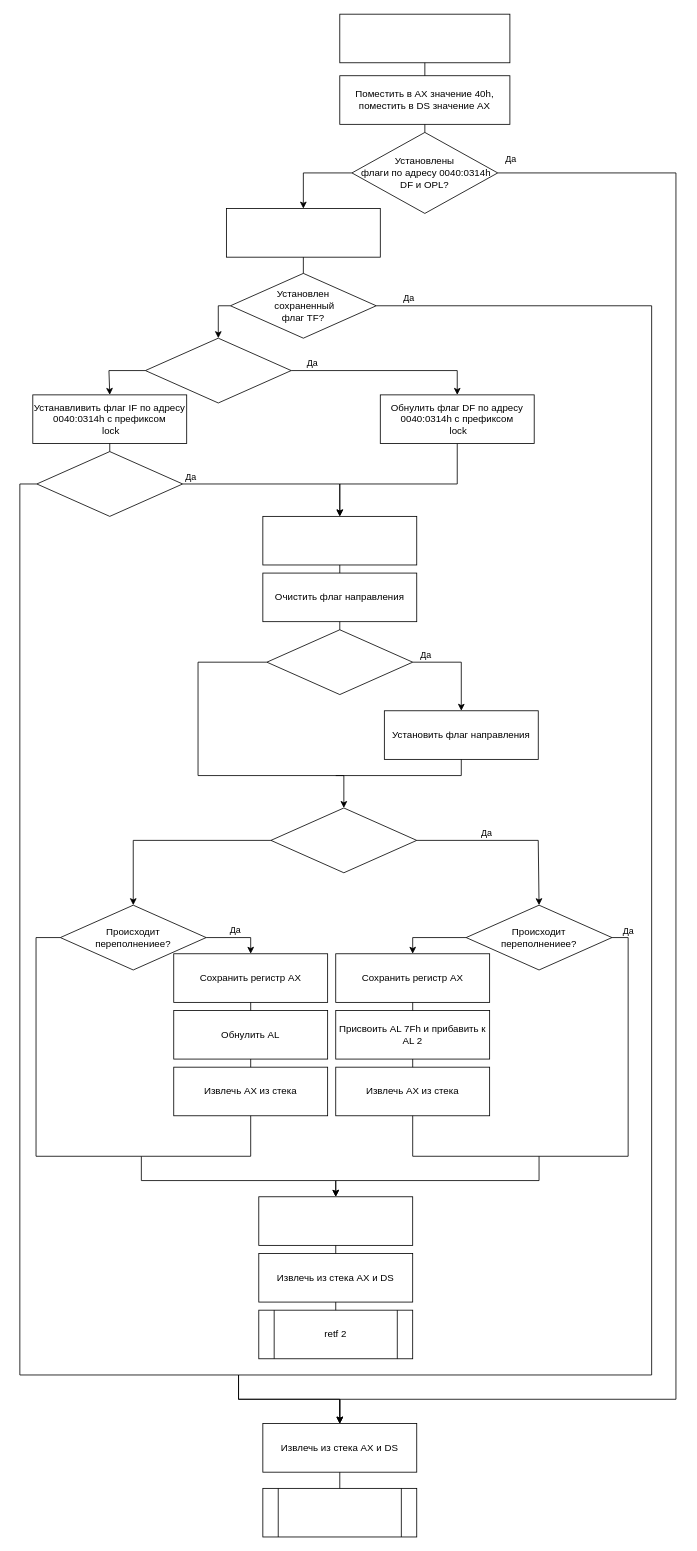
Image size: 697x1551. Some labels were removed from this diagram. The centre of each missing label's shape, as x and y in pixels:
iret: (x=339, y=1512)
Загрузить AH в флаги: (x=335, y=1220)
Поменять местами значения AH и AL: (x=339, y=540)
Поместить в AX значение, ранее пренадлежащее EFLAGS: (x=303, y=232)
Сохраненный флаг NT установлен?: (x=343, y=840)
Сохраненный флаг направления DF установлен?: (x=339, y=662)
Сохранить регистры DS и AX: (x=424, y=38)
Установлен сохраненный флаг IF?: (x=218, y=370)
Флаг CF по адресу 0040:0314h не установлен?: (x=109, y=483)
